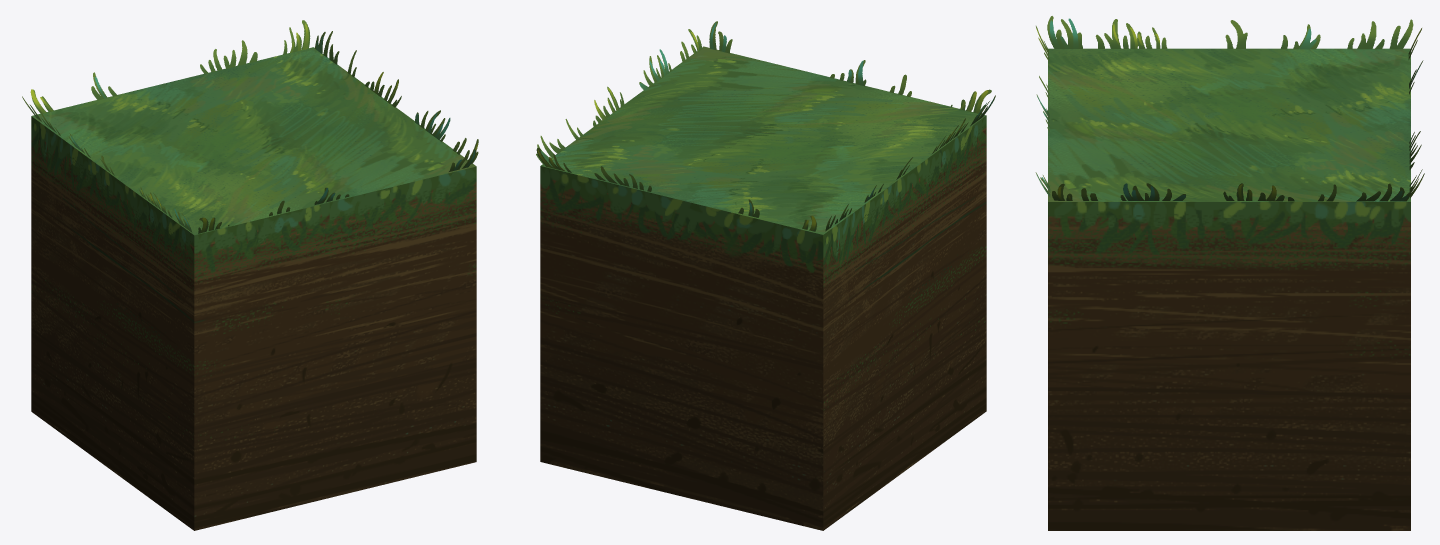
The model's file is Grass_Tile_01.fbx.
3 renders of one model, left to right at view 1: azimuth 30°, elevation 25°; view 2: azimuth 150°, elevation 25°; view 3: azimuth 270°, elevation 25°, orthographic. The views are drawn at different scales.
Parts seen in each view (by area): view 1: Grass_Tile_01, Grass_Tile_Border; view 2: Grass_Tile_01, Grass_Tile_Border; view 3: Grass_Tile_01, Grass_Tile_Border.
Boxes of the visible parts, x1,y1,x2,y2 form: Grass_Tile_01: [31, 47, 476, 530]; Grass_Tile_Border: [22, 20, 478, 233]; Grass_Tile_01: [540, 46, 986, 530]; Grass_Tile_Border: [536, 21, 995, 231]; Grass_Tile_01: [1048, 48, 1410, 530]; Grass_Tile_Border: [1035, 16, 1424, 201].
Bounding box in the file's own units: 1.08 × 1.09 × 1.08.
